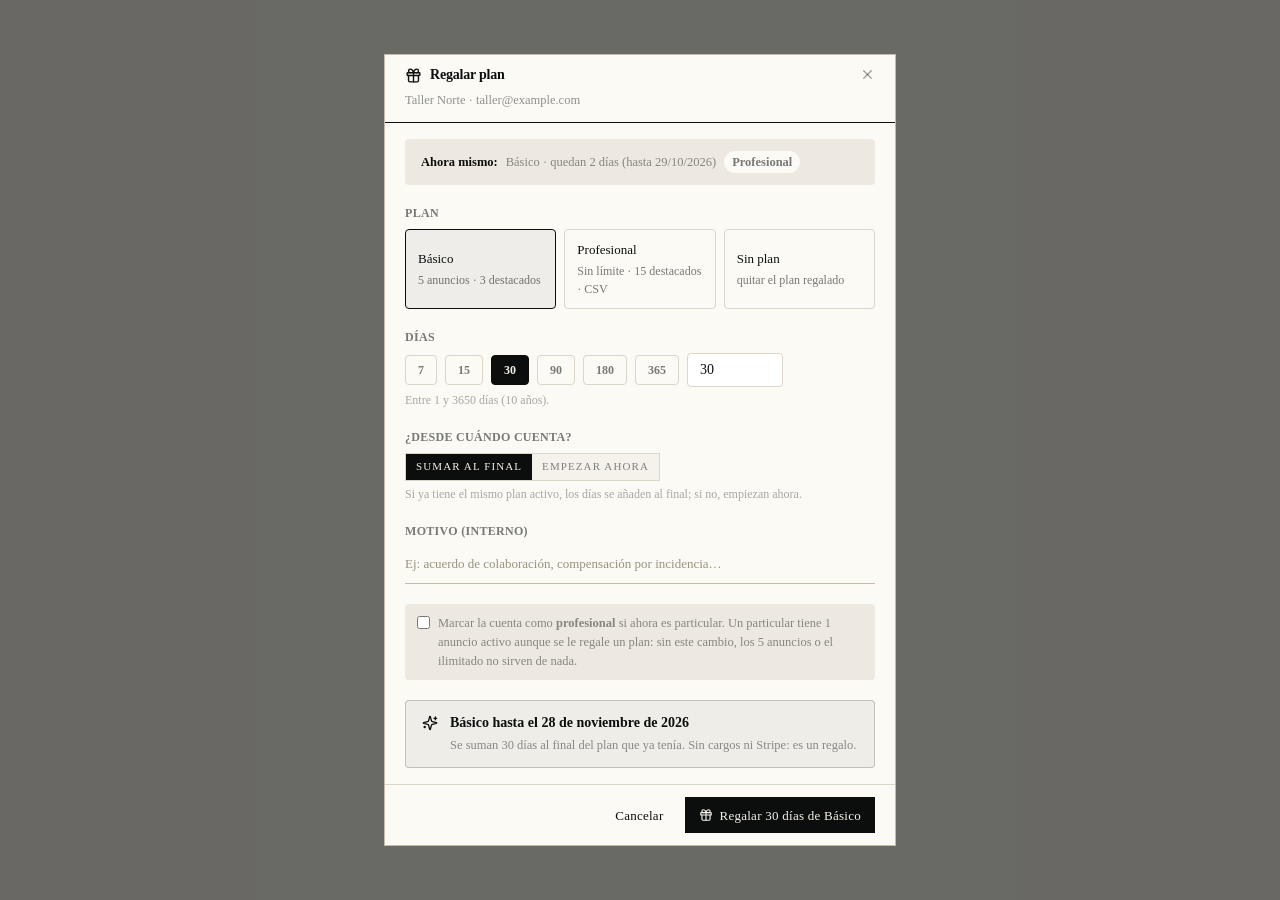
it: RegalarPlanModal › cambia a «empezar ahora» y avisa de que el tiempo anterior no se suma
What coordinates should you click on to do the following:
click the button "Empezar ahora"
I would click on:
 (596, 467)
Its box is [532,454,659,480].
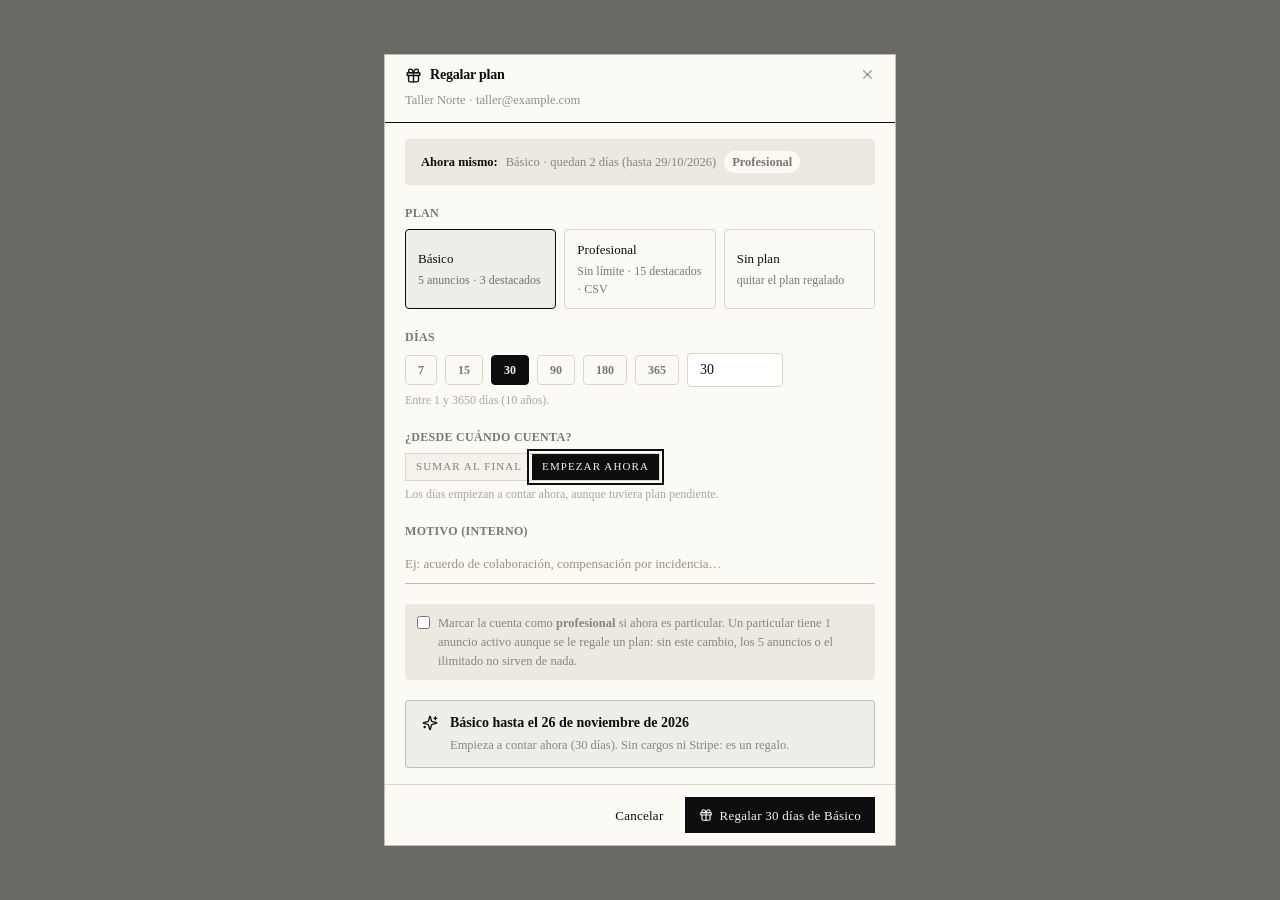
Expected: the text "Empieza a contar ahora (30 días)" is shown, [450,738,618,752]
